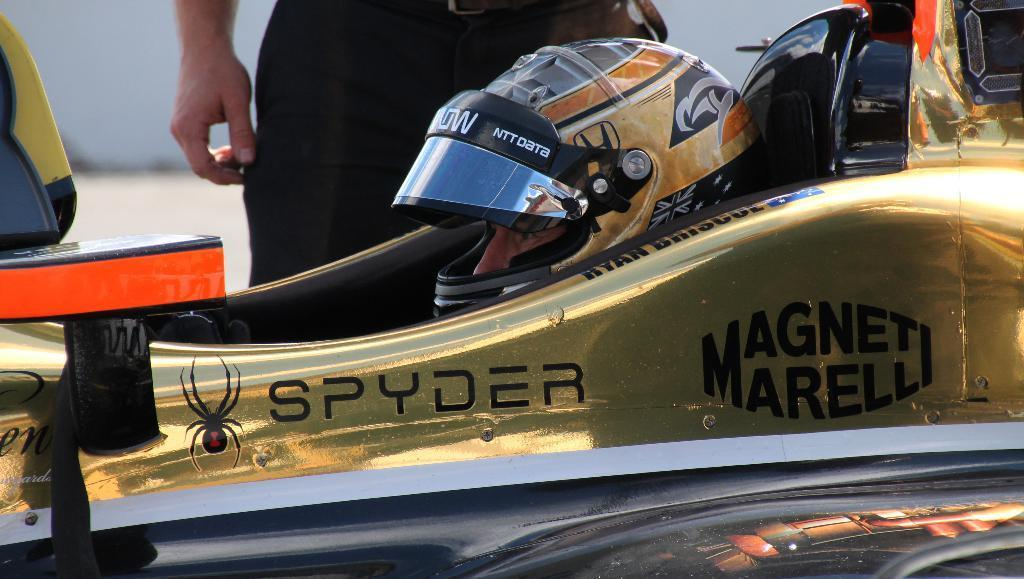helmet: (388, 33, 775, 325)
